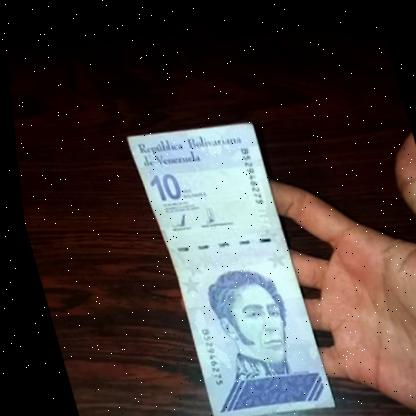ten-front-vef: (122, 111, 330, 416)
